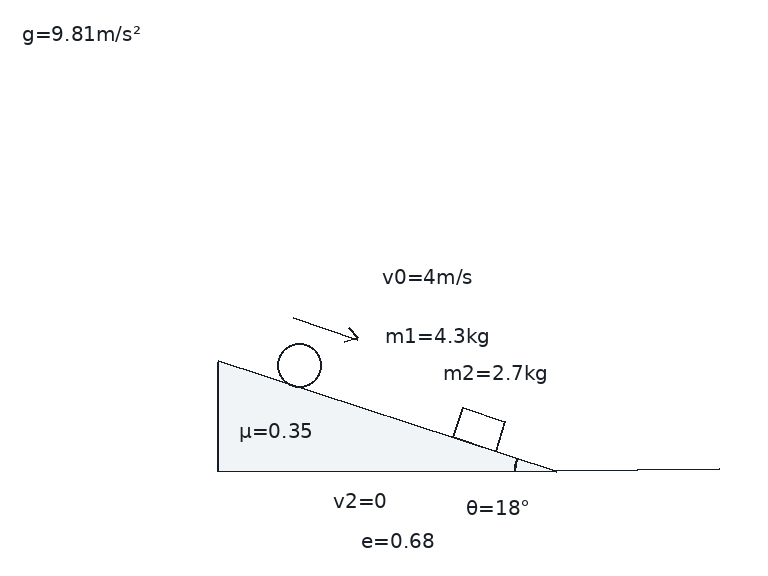ball: (275, 341, 323, 389)
block: (450, 405, 506, 453)
ramp: (215, 359, 557, 473)
